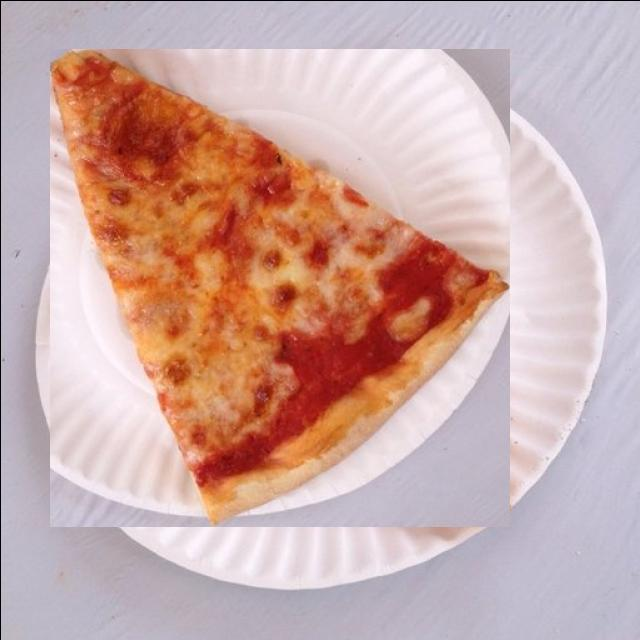pizza: (49, 48, 509, 526)
